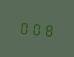eight: (43, 20, 54, 38)
zero: (18, 18, 29, 36), (31, 19, 42, 37)
